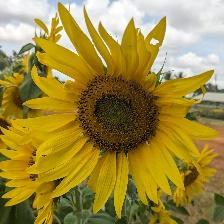sunflower: (15, 1, 224, 221)
